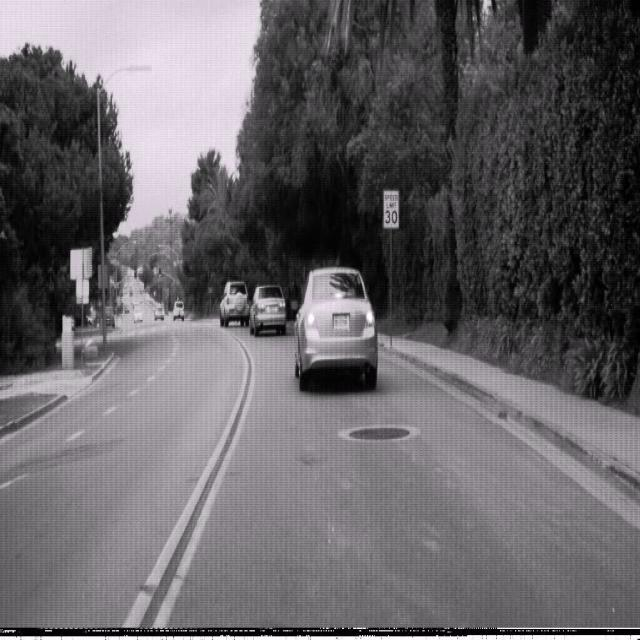speedLimit30: (382, 189, 398, 228)
